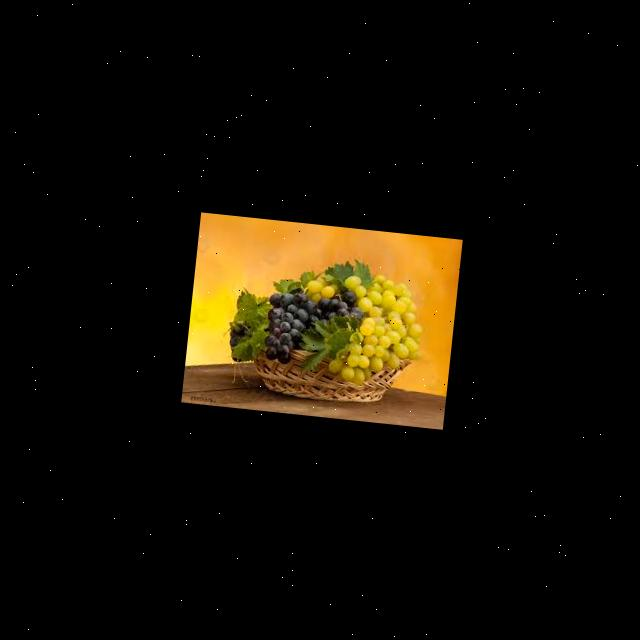grape: (333, 267, 427, 393), (259, 280, 364, 370)
